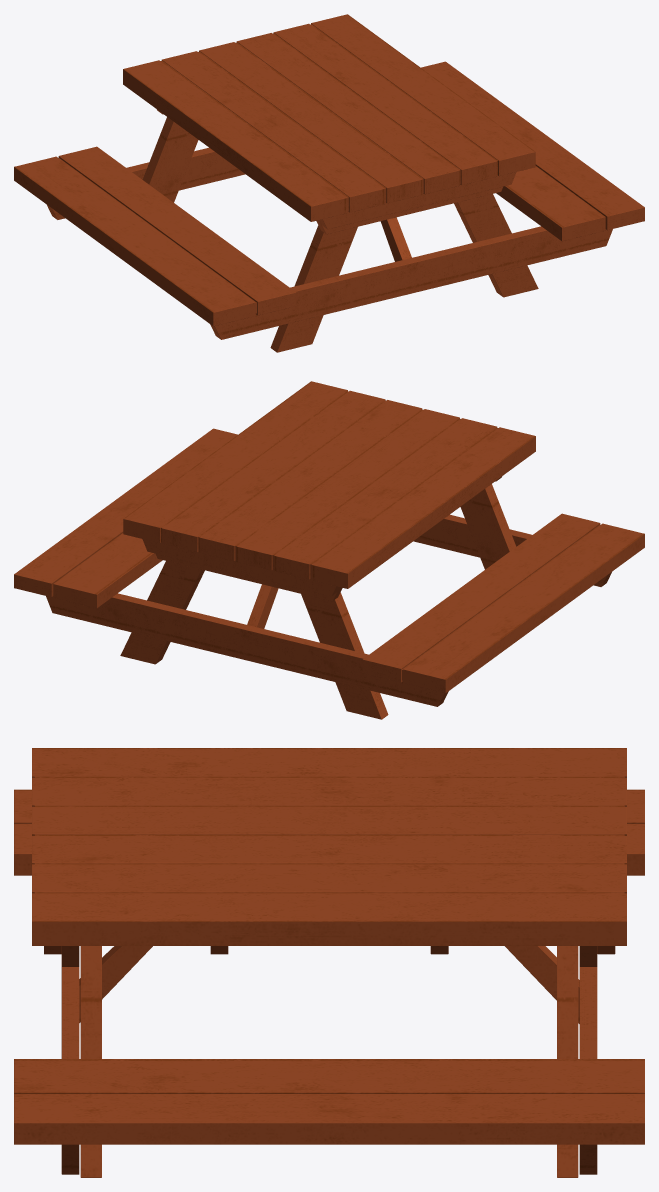
File: picnic_wooden_table.glb
The picture shows the model from 3 angles, top to bottom: view 1: azimuth 30°, elevation 25°; view 2: azimuth 150°, elevation 25°; view 3: azimuth 270°, elevation 25°; orthographic projection. The views are drawn at different scales.
Parts seen in each view (by area): view 1: Mesa Picnic; view 2: Mesa Picnic; view 3: Mesa Picnic.
Boxes of the visible parts, x1,y1,x2,y2 form: Mesa Picnic: (14,14,644,352); Mesa Picnic: (14,381,644,719); Mesa Picnic: (14,748,644,1177).
Size of the model in its own units: 401 by 136 by 321.
Materials: 1 (1 with a texture image).
